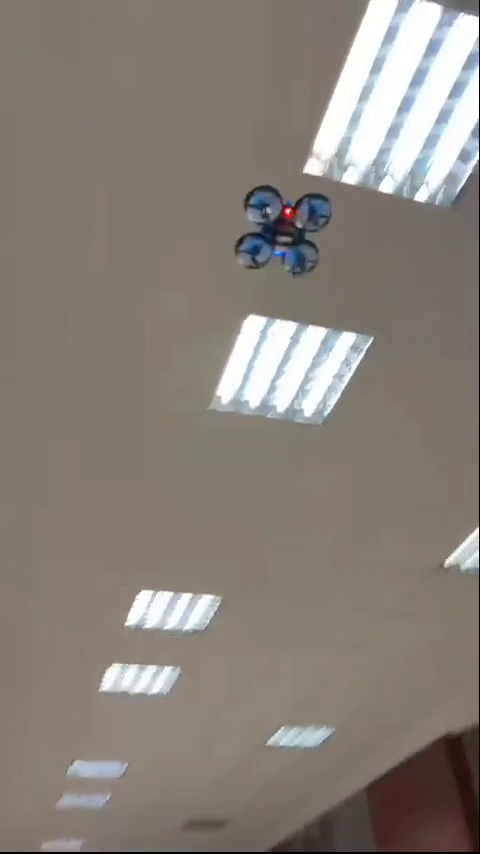drone: (233, 186, 332, 278)
